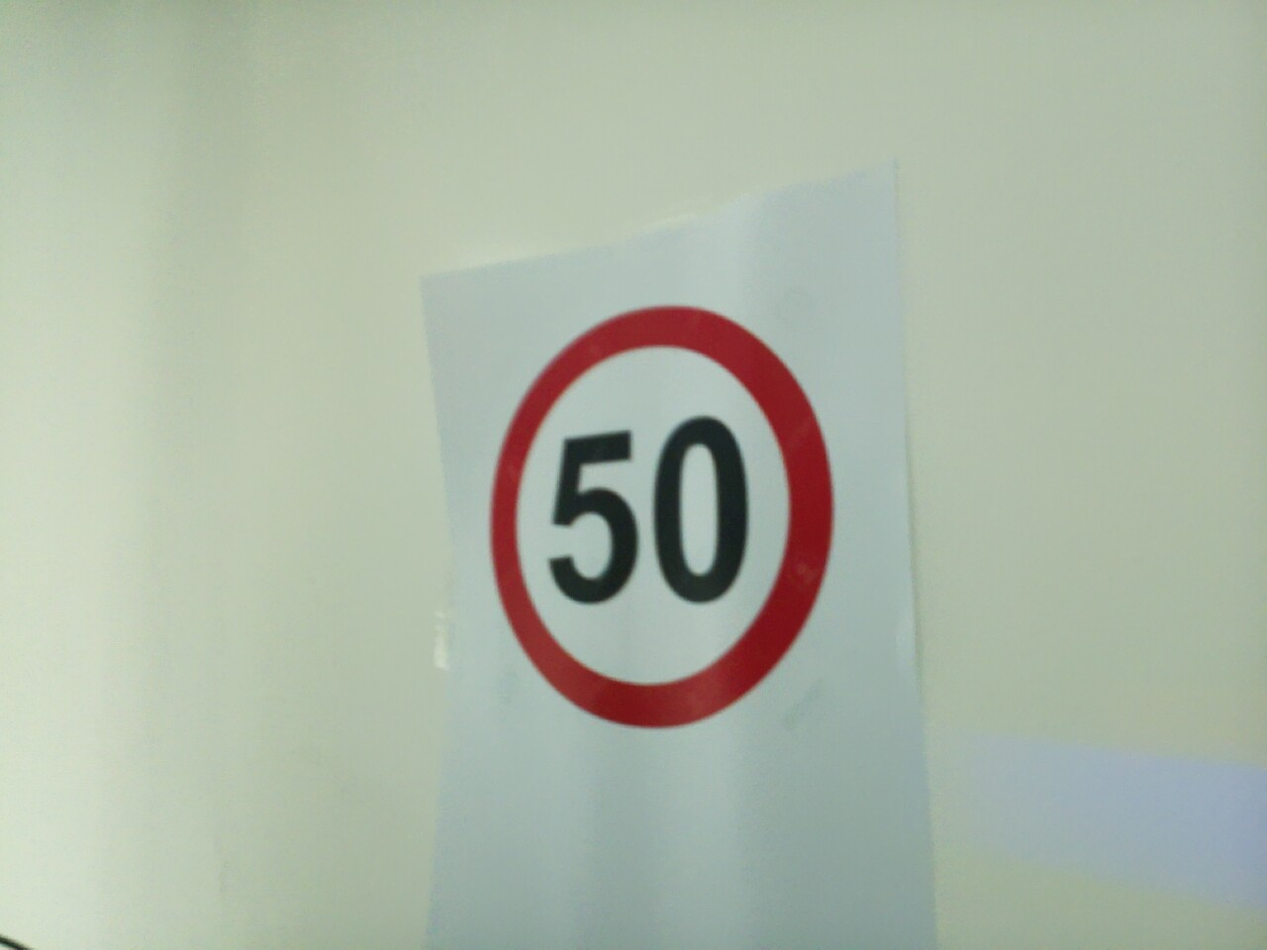speed_50: (507, 334, 799, 697)
